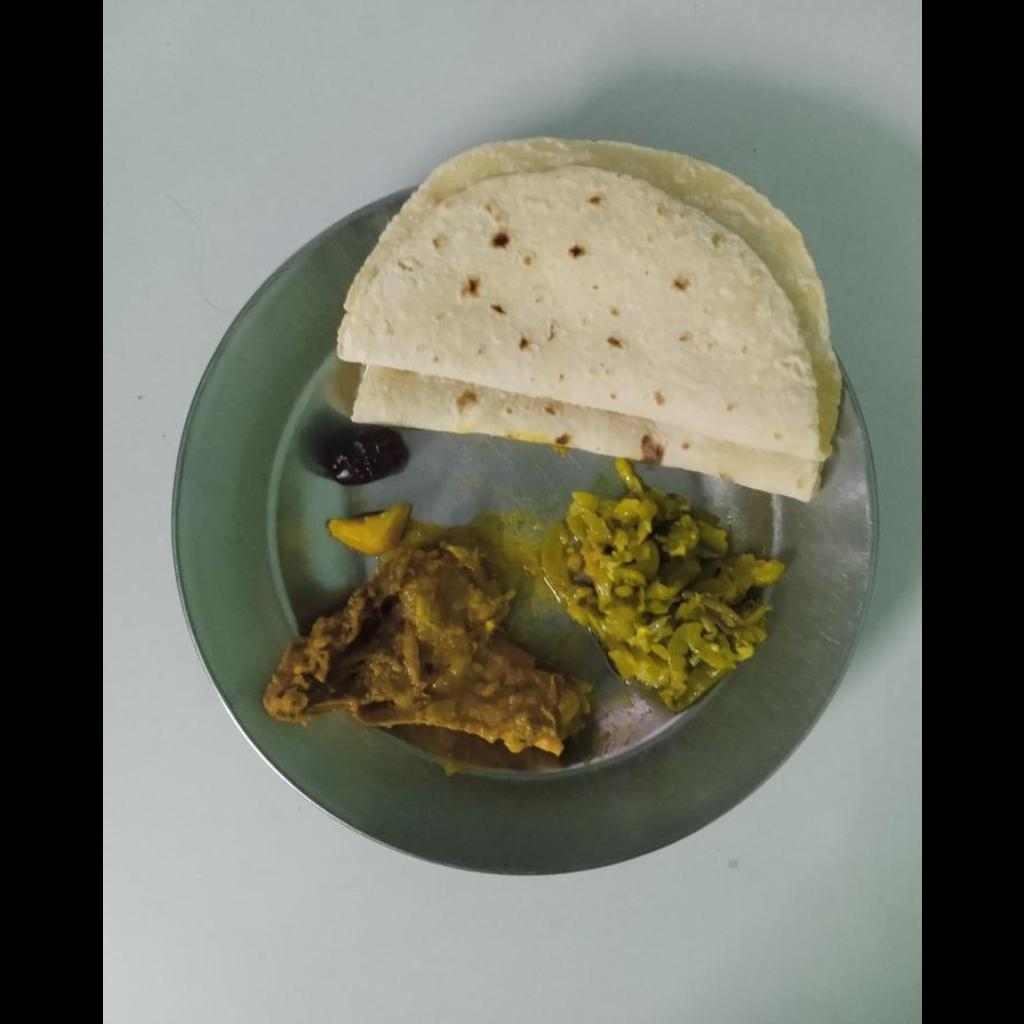chicken: (262, 539, 595, 760)
dates: (323, 429, 407, 485)
ruti: (332, 130, 839, 504)
vaji: (555, 499, 791, 703)
